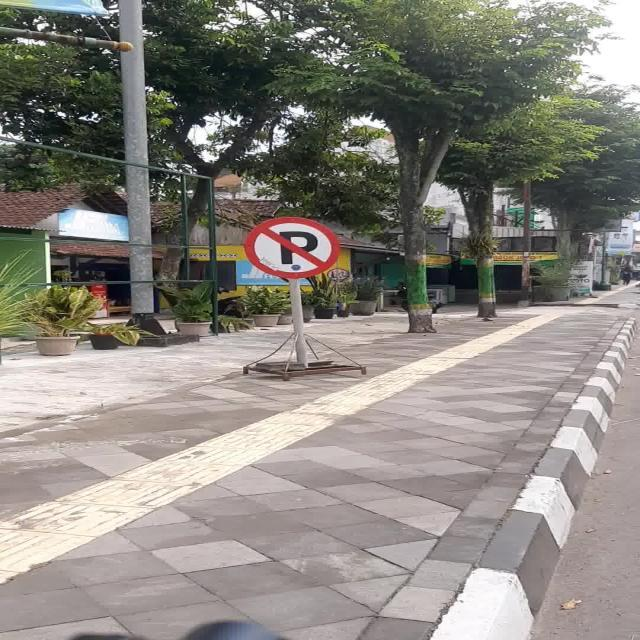Dilarang Parkir: (244, 216, 340, 280)
